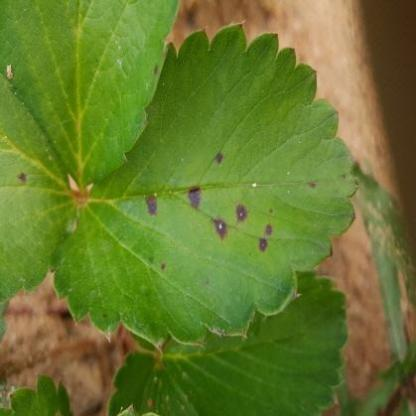Strawberry_Leaf_Spot: (46, 22, 360, 352), (0, 0, 181, 189), (0, 72, 81, 308)
